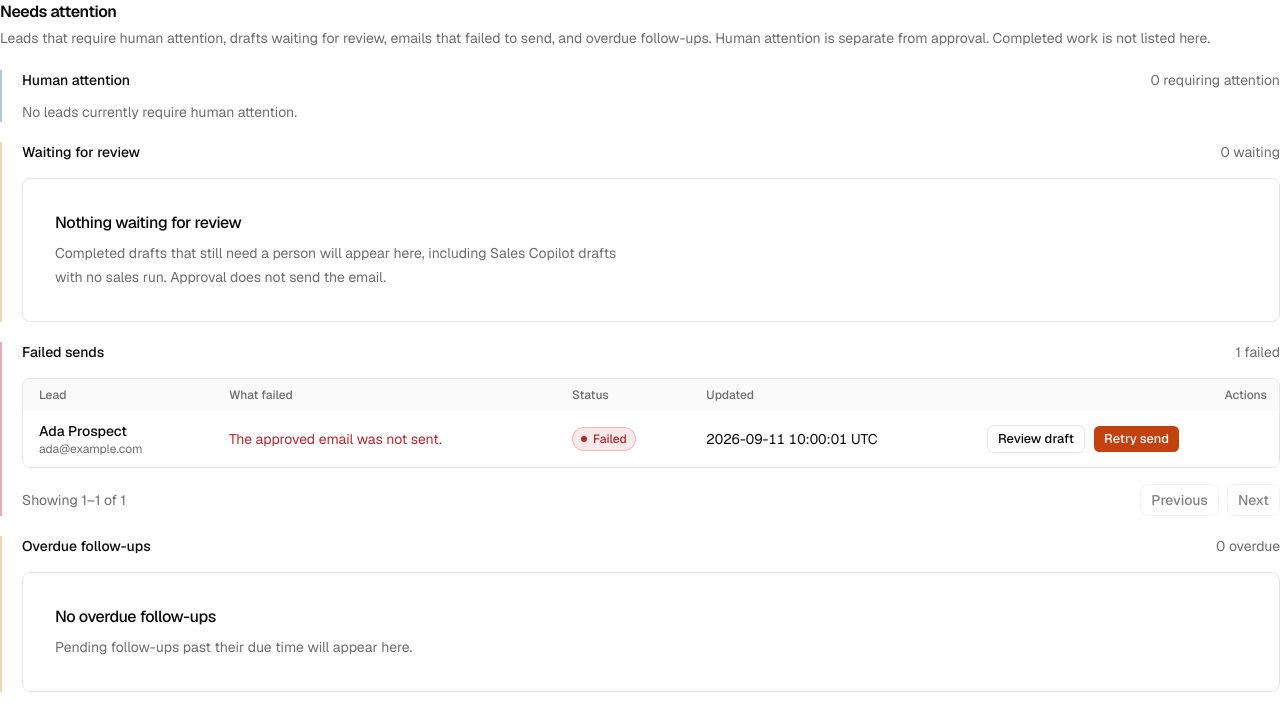
Test case: NeedsAttention › keeps a failed-send conflict visible and does not remove the row
The image size is (1280, 720).
Click the button "Retry send": (1137,439) top-left (1093, 425), bottom-right (1180, 453)
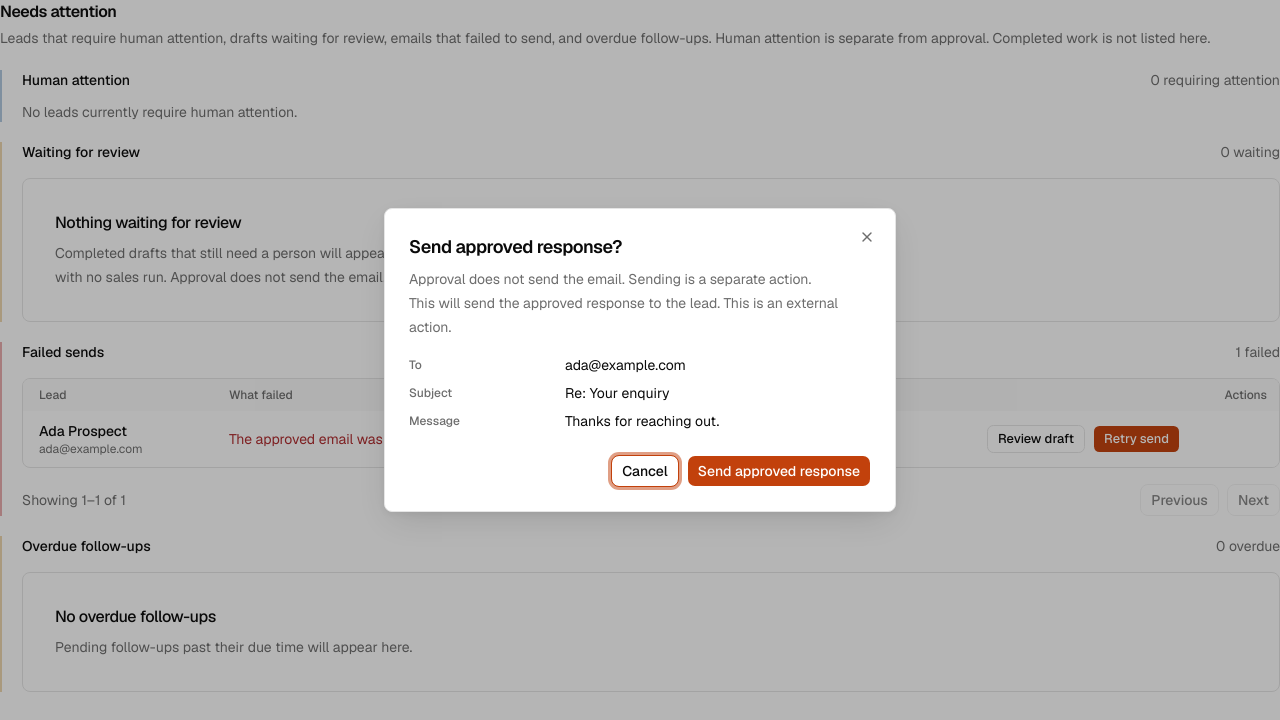
Expected: the text "Thanks for reaching out." is shown, top-left (565, 412), bottom-right (719, 430)
Click the button "Send approved response": (779,471) top-left (687, 455), bottom-right (871, 487)
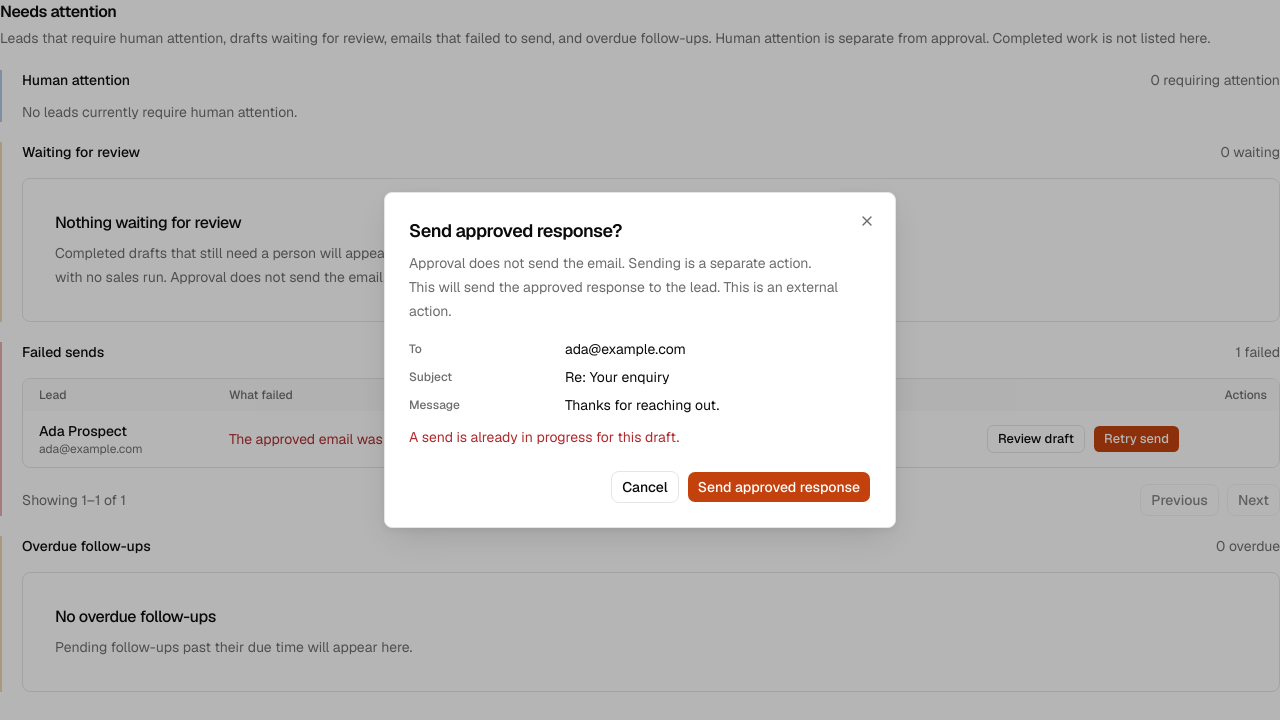
Expected: the text "Ada Prospect" is shown, top-left (39, 422), bottom-right (127, 440)
Expected: the text "A send is already in progress for this draft." is shown, top-left (409, 428), bottom-right (679, 446)
